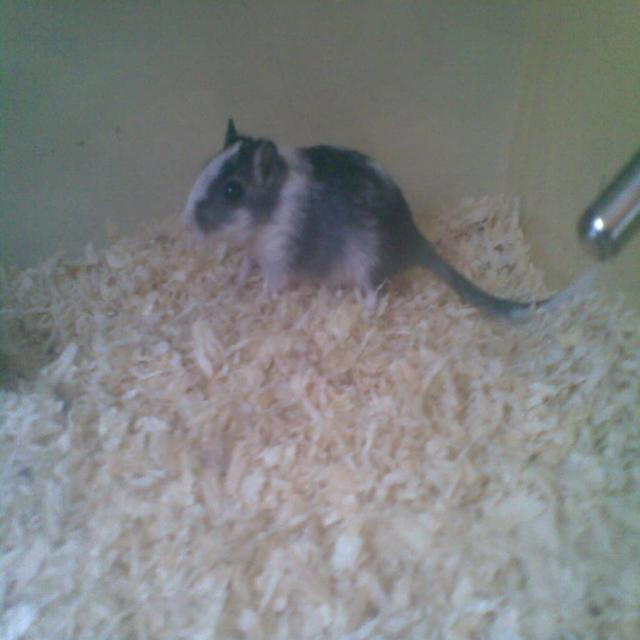rat: (178, 121, 544, 319)
